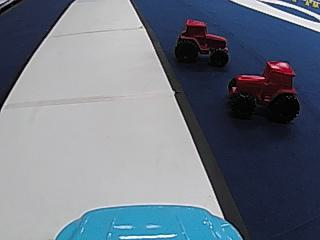Tracktor: (225, 56, 300, 123), (174, 16, 230, 65)
